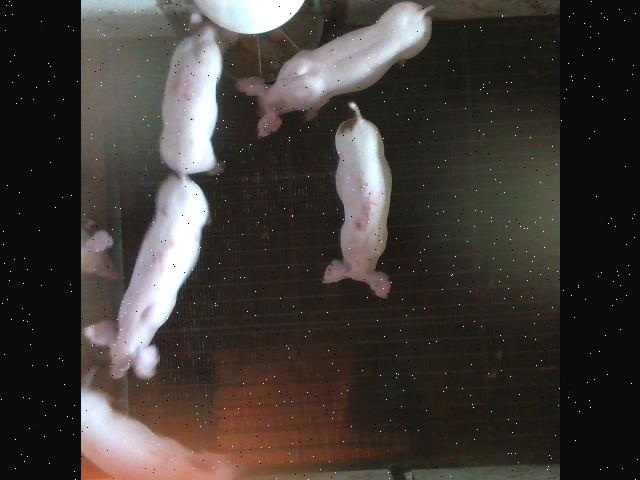pig-4: (159, 14, 236, 174)
pig-5: (322, 102, 391, 298)
